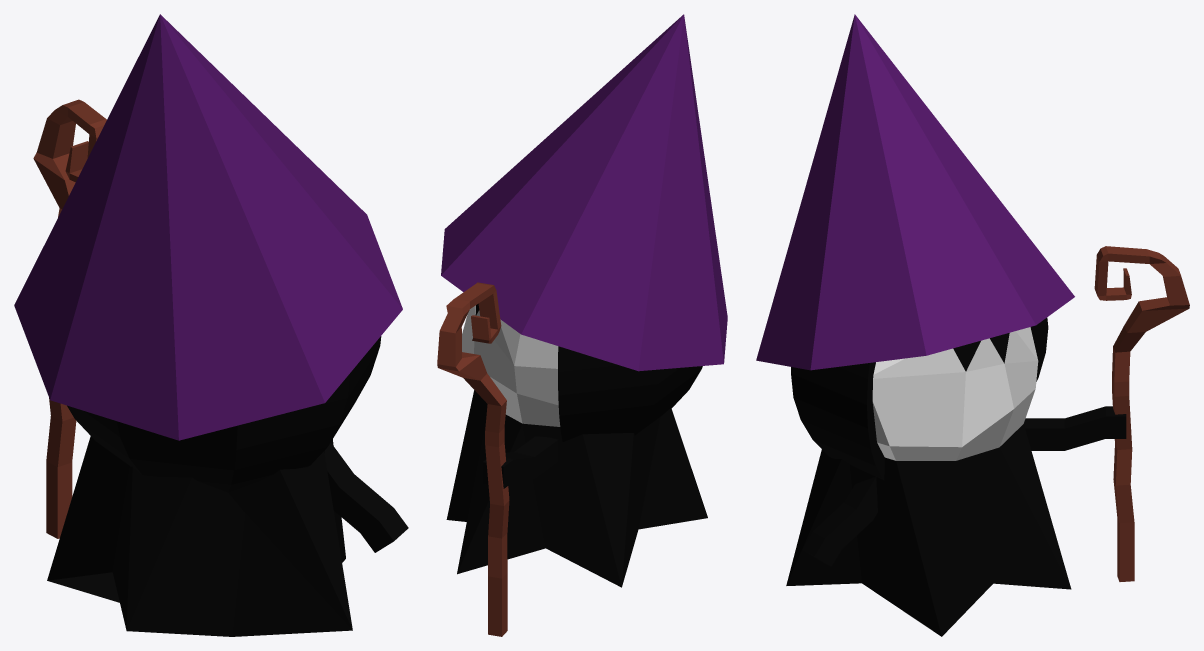
File: witch.fbx
3 views of the same model, side by side, from view 1: azimuth 30°, elevation 25°; view 2: azimuth 150°, elevation 25°; view 3: azimuth 270°, elevation 25° (orthographic). The views are drawn at different scales.
Parts seen in each view (by area): view 1: Icosphere; view 2: Icosphere; view 3: Icosphere.
Boxes of the visible parts, x1,y1,x2,y2 form: Icosphere: [14, 14, 408, 636]; Icosphere: [437, 14, 727, 636]; Icosphere: [756, 14, 1189, 636].
Bounding box in the file's own units: 248 × 471 × 343.
